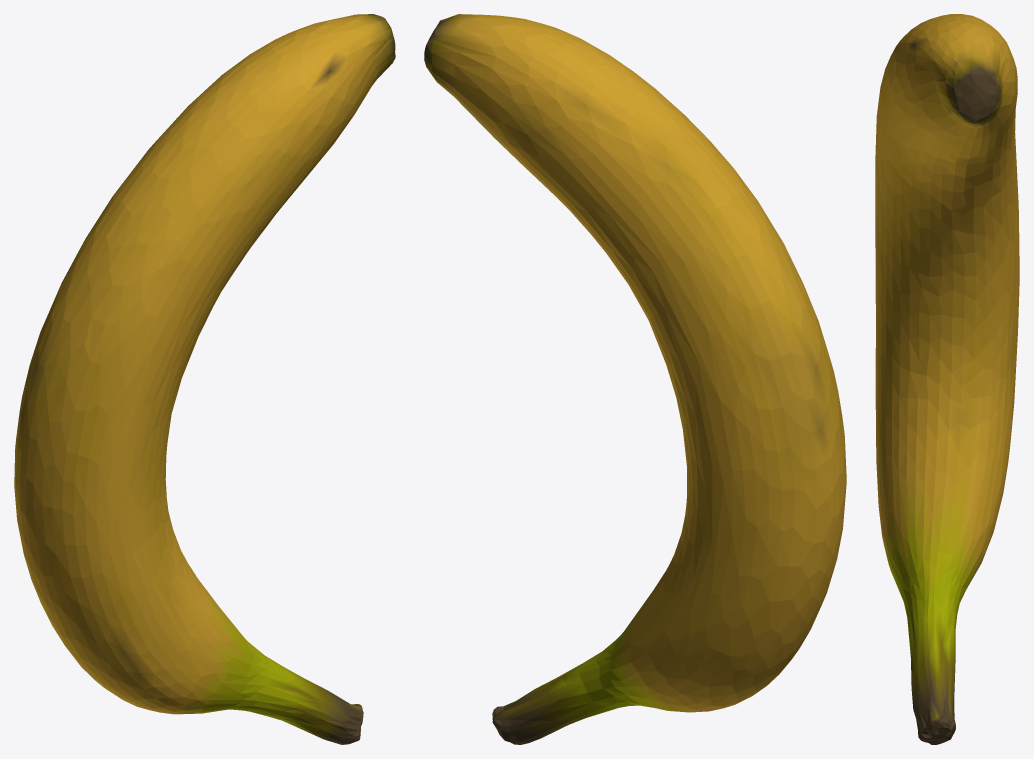
The model's file is banana.glb.
The picture shows the model from 3 angles, left to right: view 1: azimuth 30°, elevation 25°; view 2: azimuth 150°, elevation 25°; view 3: azimuth 270°, elevation 25°; orthographic projection. The views are drawn at different scales.
Visible parts, largest first — view 1: geometry_0; view 2: geometry_0; view 3: geometry_0.
Part boxes in pixels (x1,y1,x2,y2): geometry_0: (14,14,395,744); geometry_0: (424,14,846,744); geometry_0: (875,14,1019,744).
Bounding box in the file's own units: 0.8998 × 1.6 × 0.2954.
